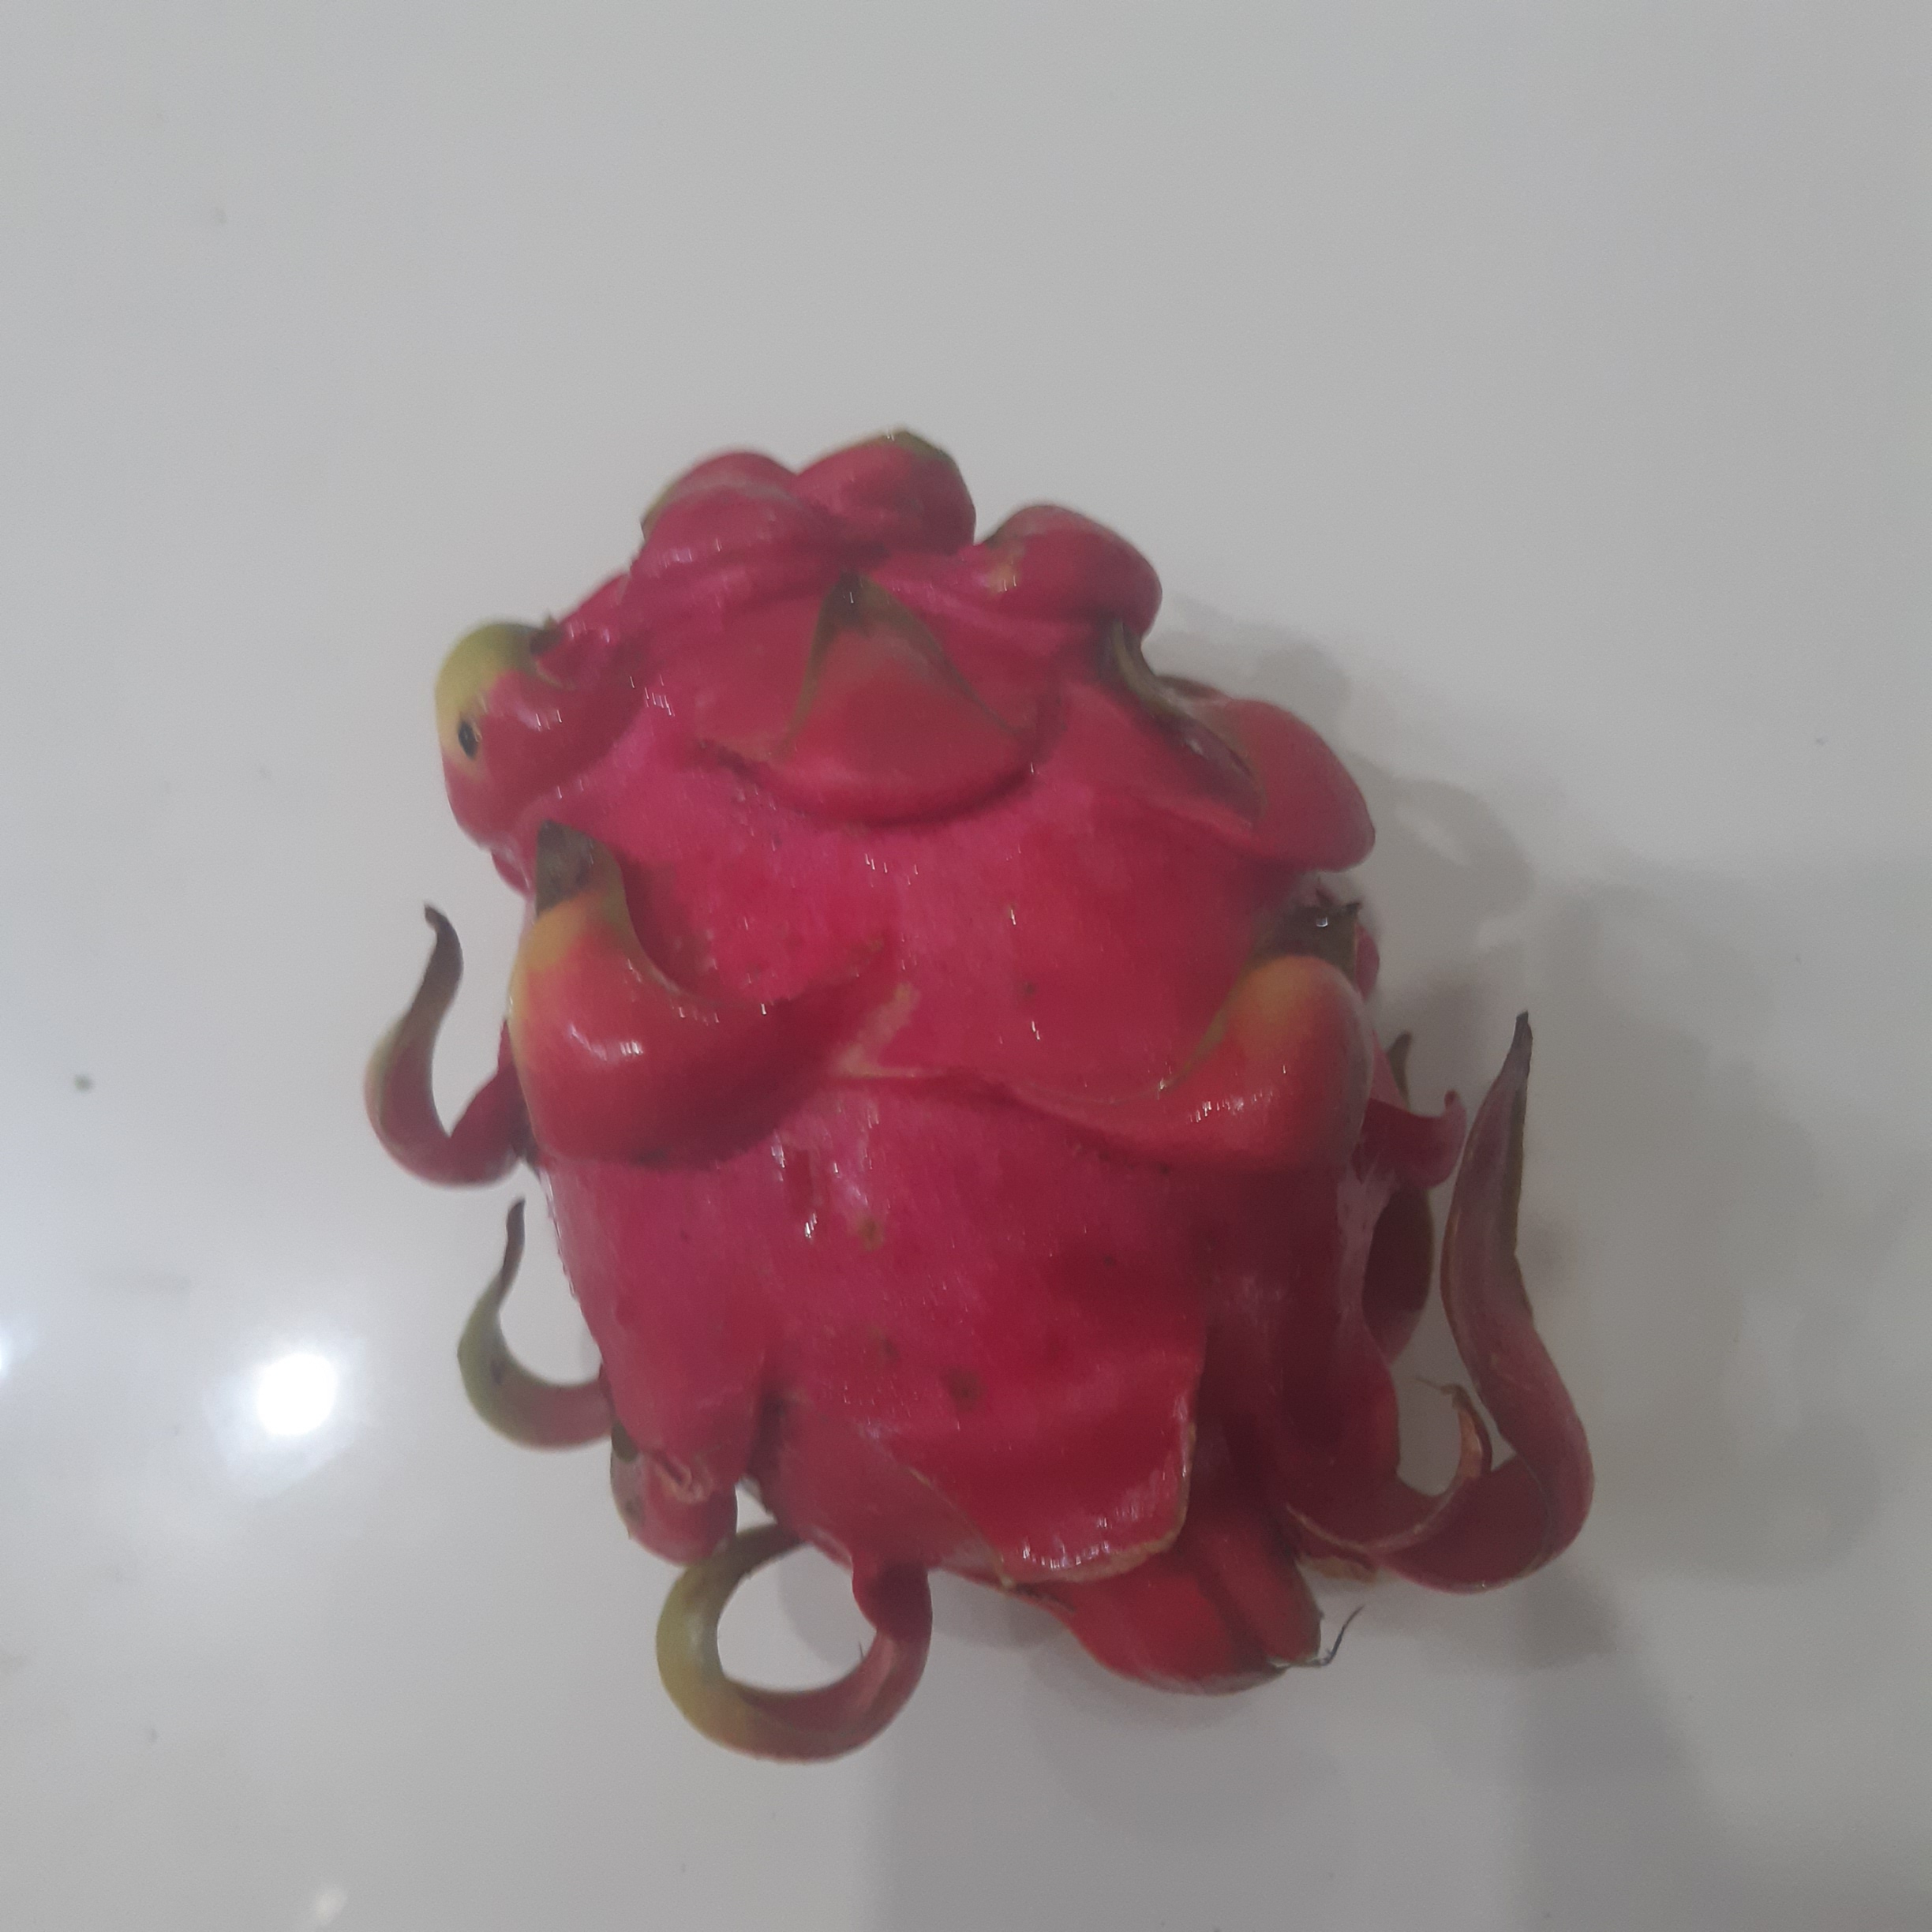Thanh long: (449, 455, 1403, 1709)
